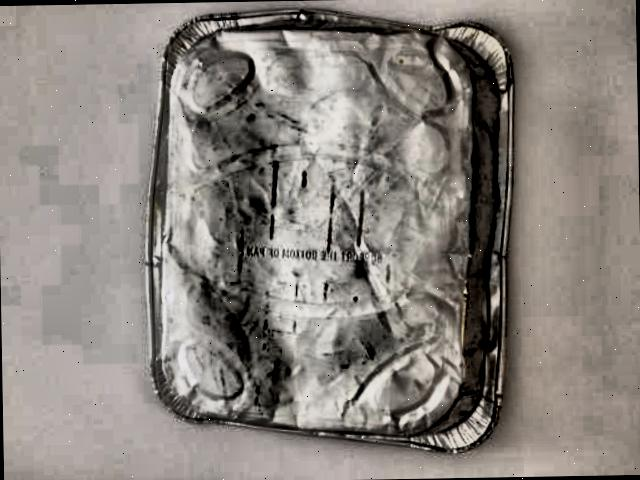Almennt: (131, 0, 538, 461)
